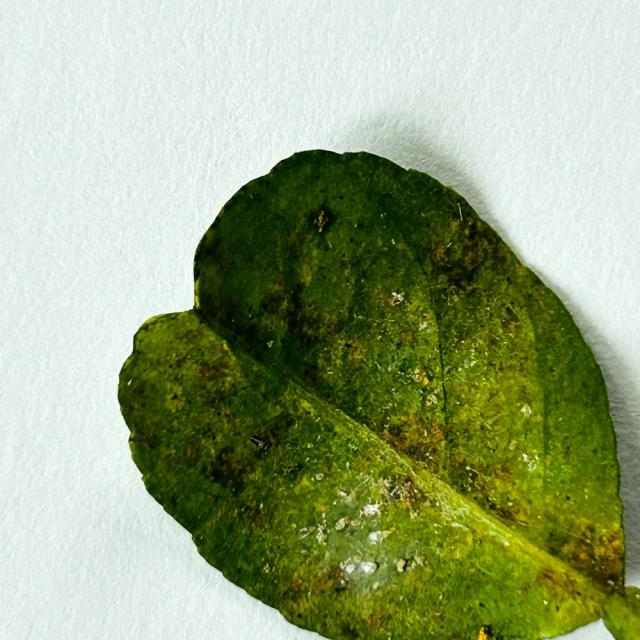Bacterial_Blight: (368, 306, 483, 435), (318, 487, 405, 574), (439, 314, 508, 390), (373, 405, 443, 467), (277, 409, 343, 474), (464, 463, 514, 503), (388, 475, 433, 517), (333, 478, 378, 515), (587, 531, 624, 569), (539, 568, 577, 601), (383, 476, 417, 512), (341, 558, 377, 581), (488, 500, 522, 522), (333, 510, 365, 532), (355, 310, 400, 324), (346, 476, 371, 498), (398, 553, 425, 573), (381, 290, 409, 309), (520, 451, 540, 471), (314, 210, 329, 232), (412, 366, 429, 384), (362, 503, 381, 518), (473, 474, 489, 491), (341, 489, 357, 506), (421, 312, 437, 328), (431, 423, 445, 441), (298, 525, 316, 538), (282, 463, 298, 475), (368, 531, 382, 544), (250, 438, 265, 450), (503, 319, 518, 331), (403, 480, 413, 497), (465, 465, 480, 476), (426, 394, 438, 407), (316, 529, 326, 544), (520, 404, 532, 416), (527, 459, 538, 472), (451, 547, 462, 560), (370, 500, 382, 511), (335, 519, 346, 530), (508, 439, 518, 451), (348, 556, 360, 566), (396, 559, 406, 571), (385, 526, 396, 536), (375, 453, 385, 463), (262, 563, 272, 573), (418, 321, 428, 331), (416, 555, 425, 566), (318, 504, 329, 513), (239, 505, 250, 514), (337, 578, 348, 587), (383, 479, 391, 491), (349, 519, 362, 526), (413, 373, 422, 383), (339, 560, 348, 570), (337, 490, 348, 498), (381, 530, 392, 538), (483, 420, 492, 429), (383, 402, 393, 410), (378, 478, 386, 488), (324, 550, 331, 561), (315, 473, 324, 481), (396, 293, 405, 301), (375, 362, 383, 371), (522, 453, 530, 462), (354, 314, 365, 320), (469, 360, 477, 368), (349, 443, 358, 450), (266, 341, 274, 348), (300, 549, 308, 556), (433, 611, 441, 618), (372, 582, 379, 590), (503, 540, 510, 547), (583, 489, 589, 497), (306, 443, 313, 449), (426, 453, 433, 459), (608, 580, 615, 586), (446, 242, 453, 248), (127, 379, 133, 386), (380, 212, 386, 218), (291, 523, 297, 529), (259, 502, 264, 509), (316, 434, 321, 441), (328, 241, 333, 248), (318, 225, 323, 232), (424, 429, 428, 437), (466, 466, 472, 471), (315, 417, 321, 422), (376, 335, 382, 340), (508, 333, 514, 338), (507, 502, 513, 507), (249, 194, 254, 200), (439, 594, 443, 601), (305, 457, 310, 462), (421, 212, 426, 217), (327, 371, 333, 375), (391, 239, 395, 245), (346, 462, 350, 468), (461, 340, 466, 344)
Lemon: (116, 150, 639, 639)
